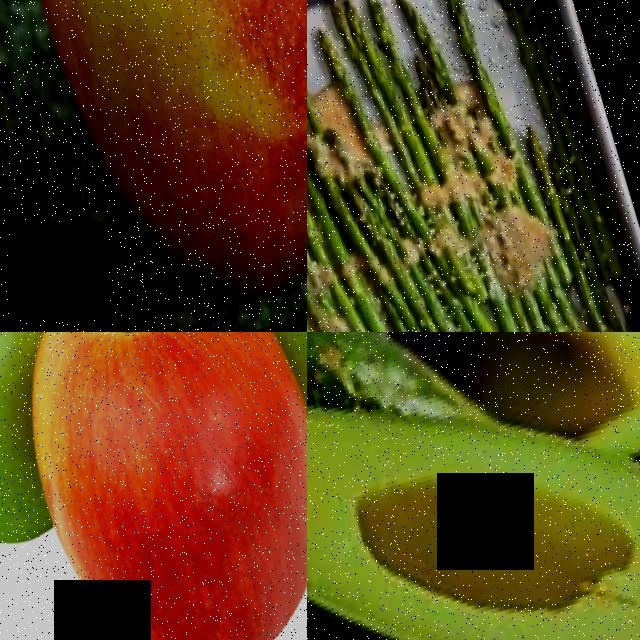apple: (0, 0, 307, 332), (0, 332, 307, 640)
asparagus: (307, 22, 367, 133), (487, 0, 550, 105), (522, 130, 576, 251), (434, 0, 501, 89), (394, 0, 447, 97), (307, 32, 325, 131)
avocado: (307, 332, 640, 640), (414, 332, 640, 516)
